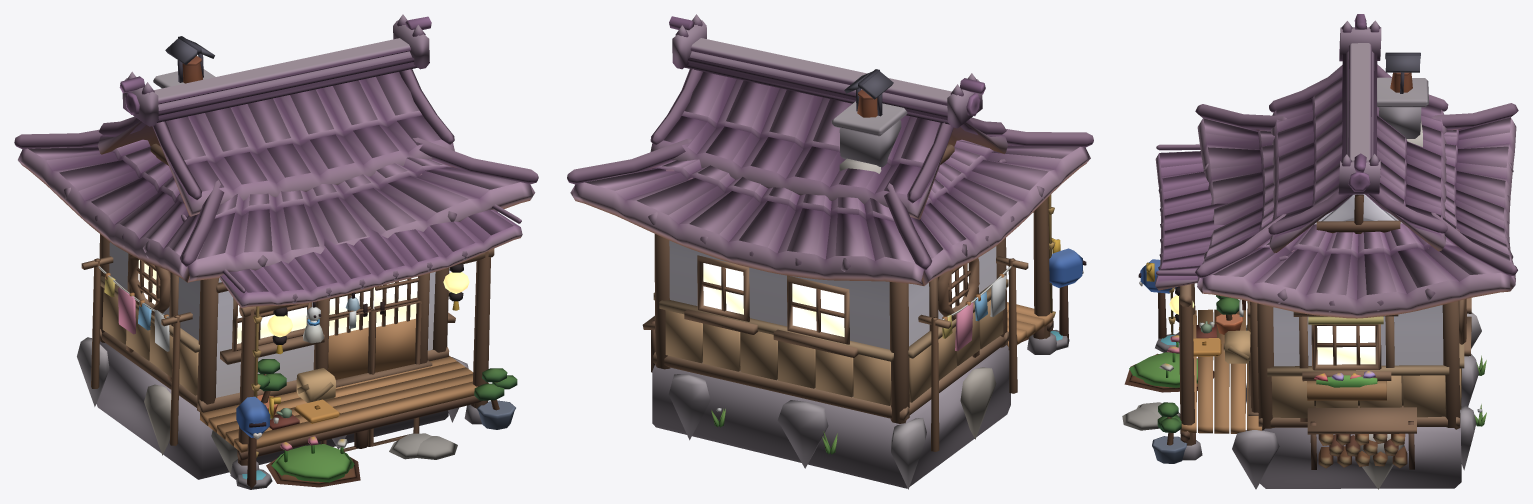
The model's file is home-2-v3.glb.
The picture shows the model from 3 angles, left to right: view 1: azimuth 30°, elevation 25°; view 2: azimuth 150°, elevation 25°; view 3: azimuth 270°, elevation 25°; orthographic projection. The views are drawn at different scales.
Parts seen in each view (by area): view 1: home, window_glow; view 2: home, window_glow; view 3: home, window_glow.
Part boxes in pixels (x1,y1,x2,y2): home: [14, 14, 538, 489]; window_glow: [138, 260, 469, 343]; home: [567, 14, 1093, 489]; window_glow: [703, 263, 968, 336]; home: [1122, 14, 1518, 489]; window_glow: [1169, 295, 1375, 364].
Size of the model in its own units: 3.48 by 3.43 by 3.49.
